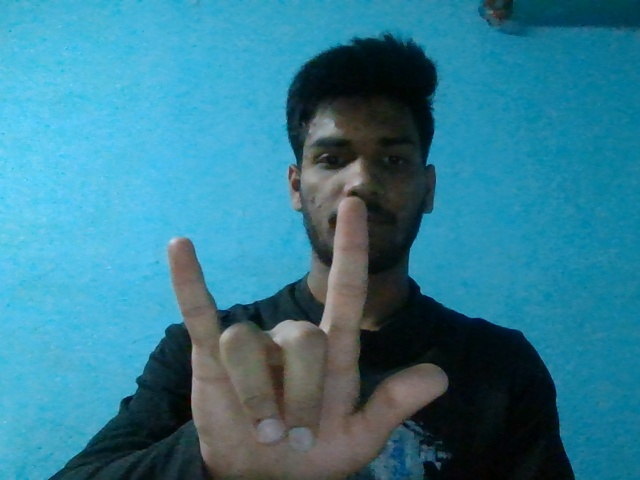I Love You: (168, 197, 449, 480)
